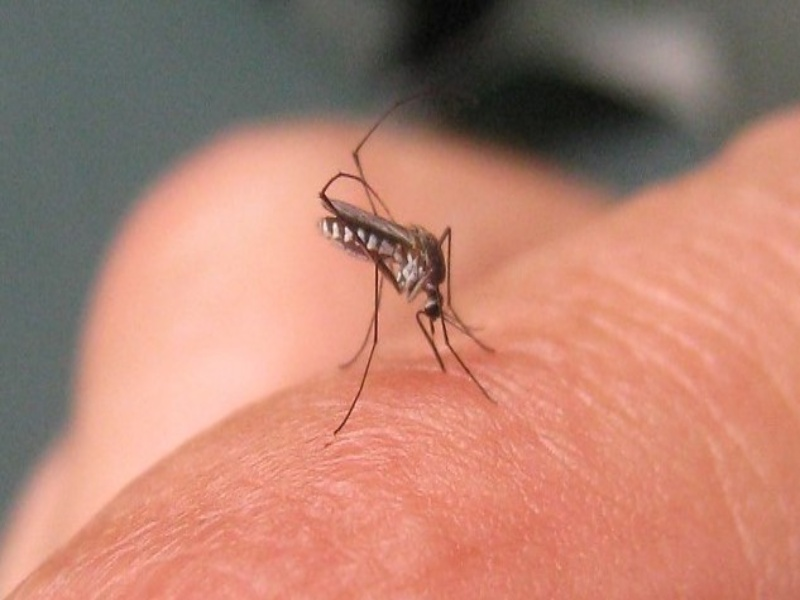dengue_mosquito: (319, 172, 479, 390)
